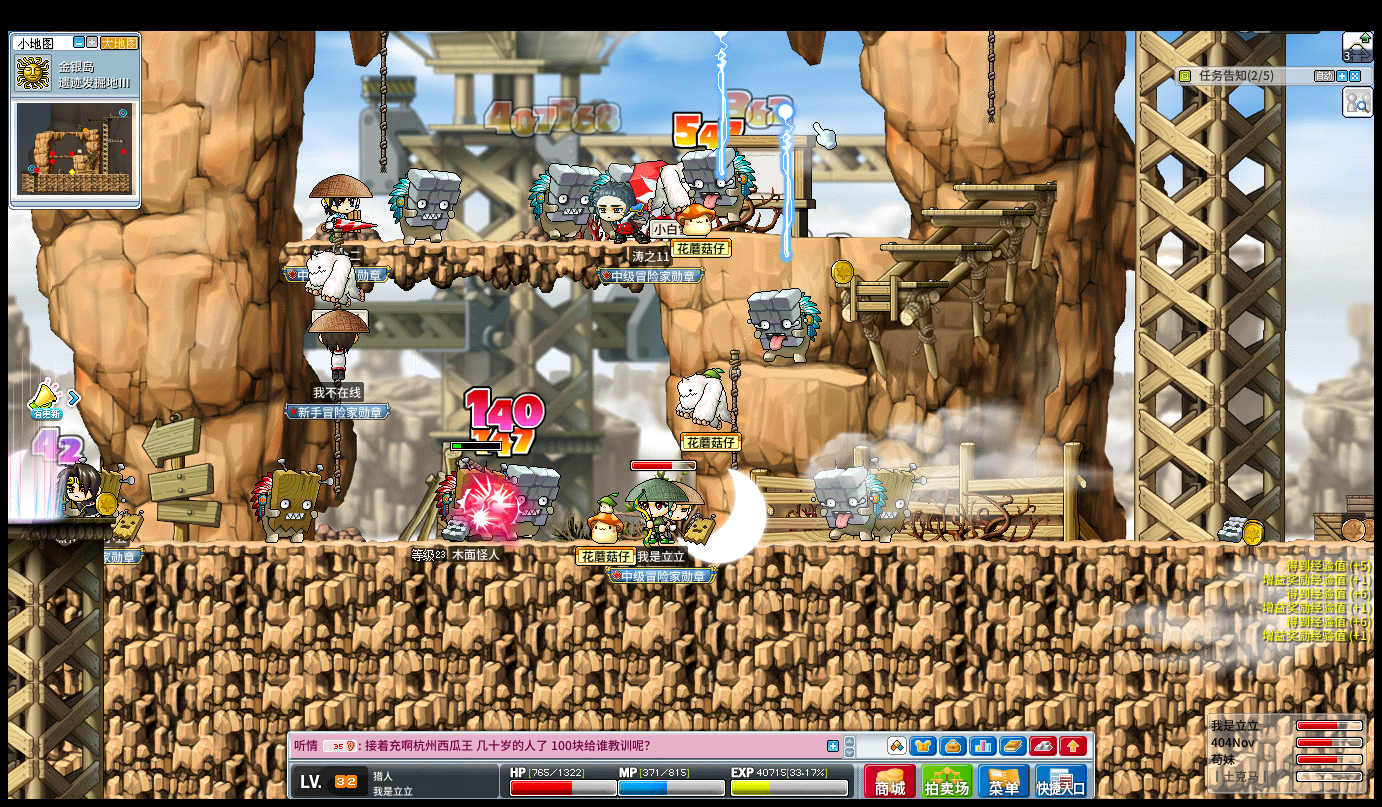floor: (288, 238, 671, 250), (755, 363, 869, 385), (727, 232, 921, 240), (754, 233, 923, 241), (833, 279, 945, 288), (6, 516, 113, 525), (921, 207, 1033, 215), (949, 184, 1057, 192), (881, 243, 995, 250)
monster: (432, 456, 513, 541), (746, 286, 820, 368), (250, 464, 325, 543), (527, 162, 598, 243), (812, 465, 886, 541), (683, 147, 757, 222), (390, 167, 461, 243), (510, 467, 560, 541)
rope: (377, 32, 388, 180), (986, 30, 995, 122), (332, 420, 340, 495)
